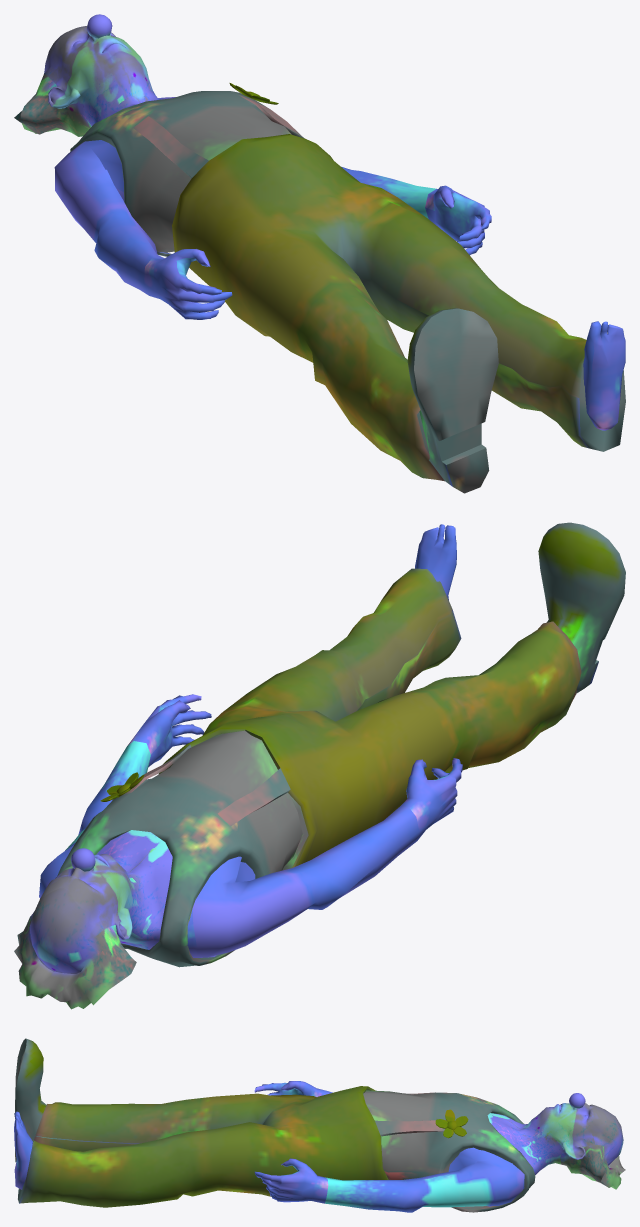
Rendered from l4d2-common_male_clown.glb.
3 renders of one model, top to bottom at view 1: azimuth 30°, elevation 25°; view 2: azimuth 150°, elevation 25°; view 3: azimuth 270°, elevation 25°, orthographic. The views are drawn at different scales.
Size of the model in its own units: 27.03 by 16.25 by 72.26.
Materials: 2 (2 with a texture image).
